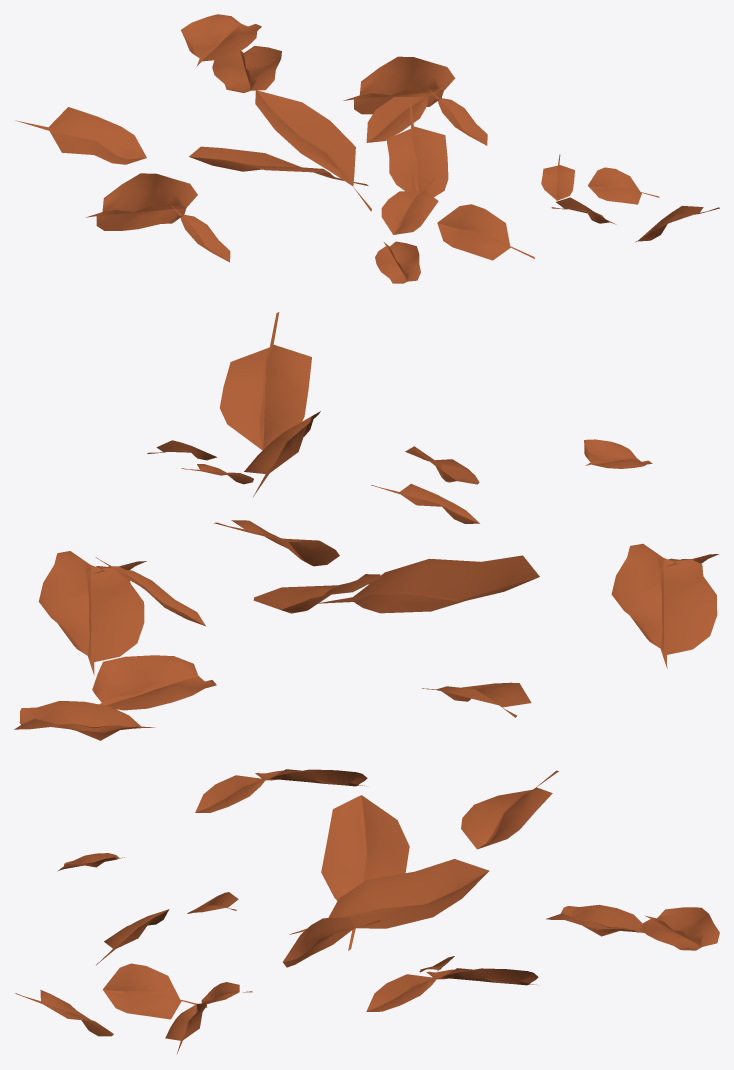
Rendered from grass_2.fbx.
3 views of the same model, one above another, from view 1: azimuth 30°, elevation 25°; view 2: azimuth 150°, elevation 25°; view 3: azimuth 270°, elevation 25° (orthographic). The views are drawn at different scales.
Visible parts, largest first — view 1: Sc Forest dead leaves 01.001; view 2: Sc Forest dead leaves 01.001; view 3: Sc Forest dead leaves 01.001.
Boxes of the visible parts, bbox=[...] form: Sc Forest dead leaves 01.001: bbox=[15, 14, 719, 283]; Sc Forest dead leaves 01.001: bbox=[14, 312, 718, 740]; Sc Forest dead leaves 01.001: bbox=[15, 769, 719, 1054].
Size of the model in its own units: 21.71 by 3.47 by 26.59.
